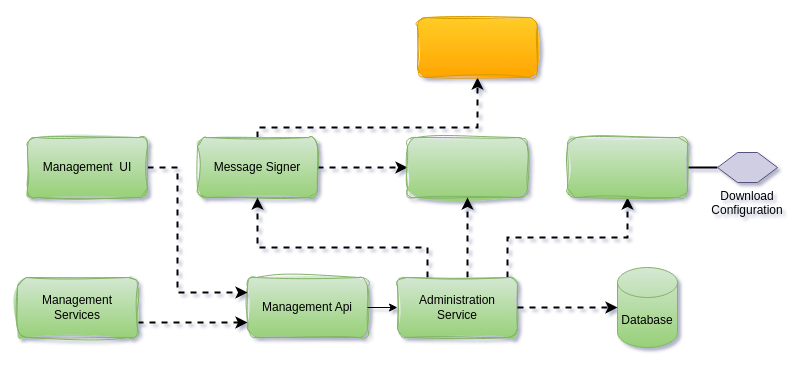
Some shapes in this 806 by 371 pixel diagram are drawn without their labels. Here are the shapes that lost their labels. From the top down, the box of each, then its label:
(416, 16, 538, 78): SSCD
(406, 136, 528, 198): Password Store
(566, 136, 688, 198): Web Server
